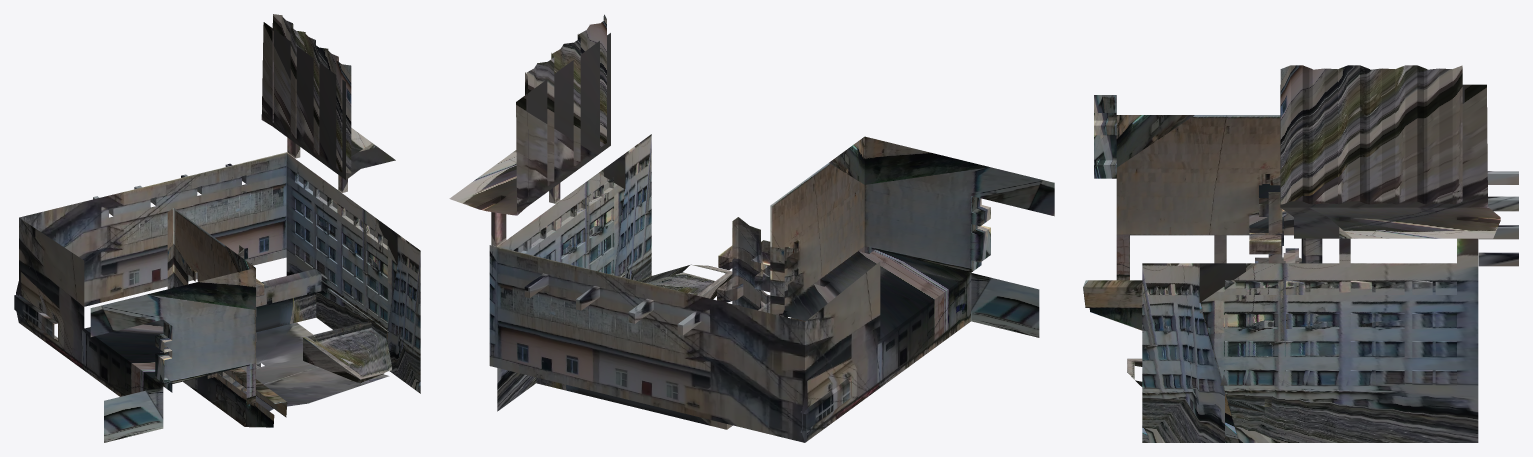
Rendered from t_abstract.fbx.
3 views of the same model, side by side, from view 1: azimuth 30°, elevation 25°; view 2: azimuth 150°, elevation 25°; view 3: azimuth 270°, elevation 25° (orthographic). The views are drawn at different scales.
Visible parts, largest first — view 1: Cube; view 2: Cube; view 3: Cube.
Boxes of the visible parts, x1,y1,x2,y2 form: Cube: (14, 14, 420, 442); Cube: (449, 14, 1054, 442); Cube: (1083, 65, 1518, 442).
Bounding box in the file's own units: 3416 × 2589 × 2735.
Materials: 1 (1 with a texture image).
